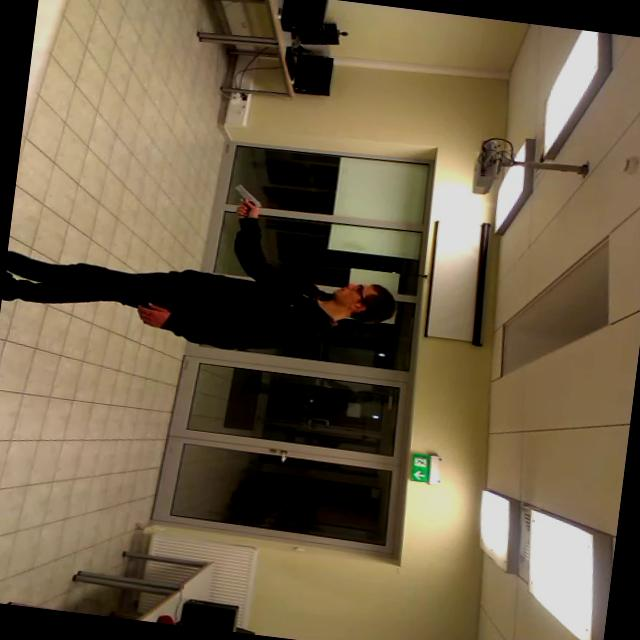handgun: (216, 176, 276, 225)
